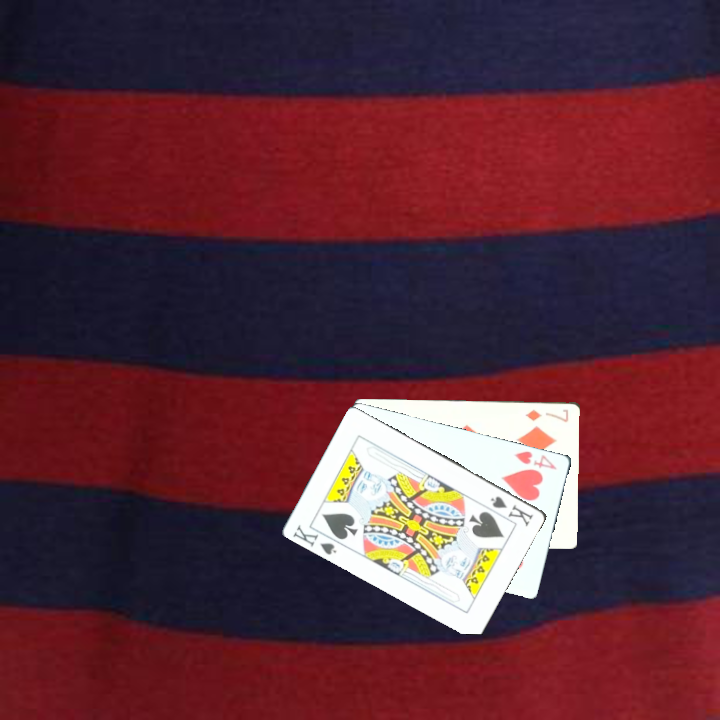4h: (510, 447, 559, 472)
7d: (522, 405, 571, 425)
Ks: (289, 517, 344, 557), (486, 492, 535, 529)
